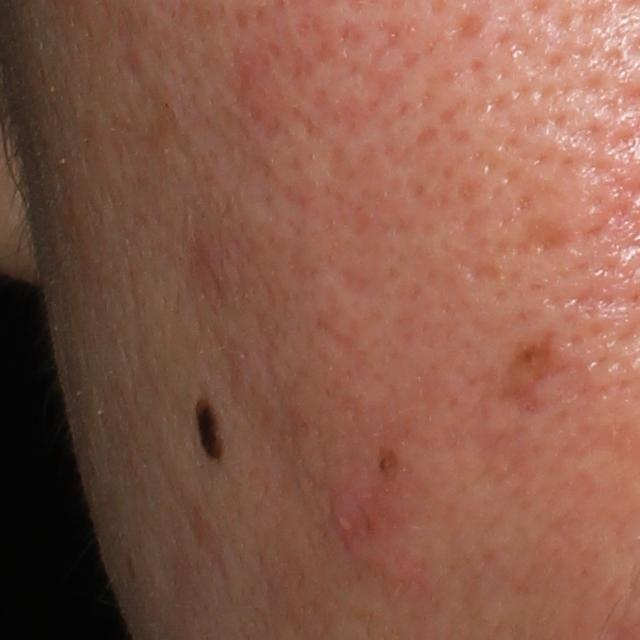atrophic_scar: (498, 331, 567, 426), (452, 11, 485, 45)
nevus: (192, 387, 231, 469), (375, 446, 398, 481)
other: (489, 323, 558, 432)
